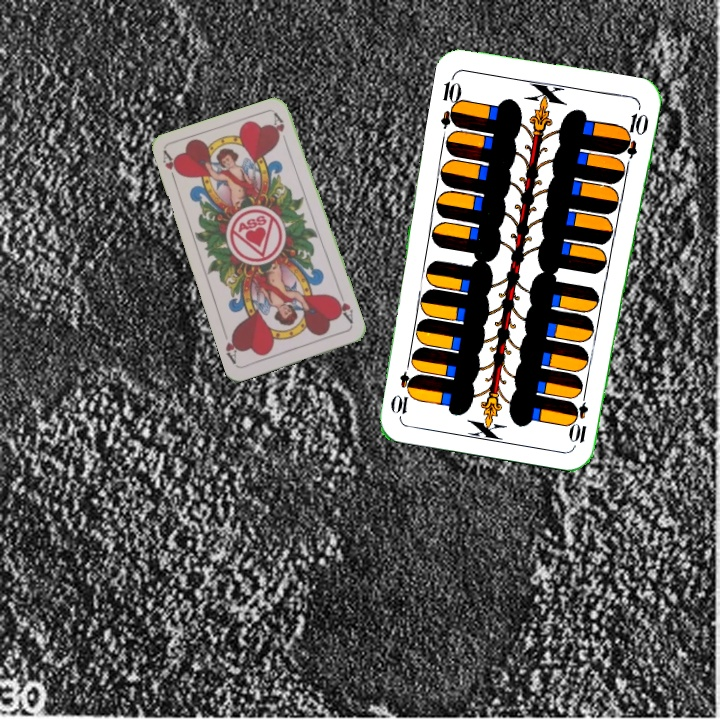E10: (436, 71, 465, 130), (568, 387, 591, 446)
HA: (158, 148, 184, 188), (331, 289, 356, 328)
